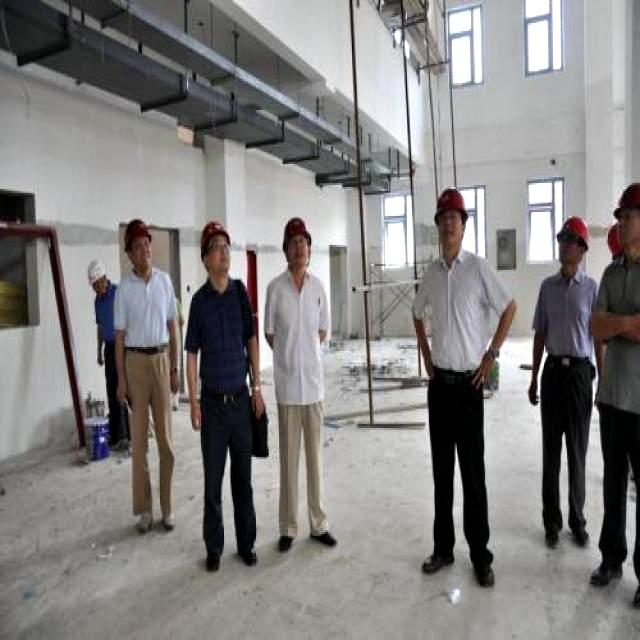hard_hat: (435, 187, 467, 222), (201, 220, 232, 256), (557, 216, 589, 249), (124, 218, 151, 251), (283, 216, 312, 243), (613, 183, 639, 212), (87, 260, 108, 283)
person: (413, 189, 515, 584), (187, 222, 264, 569), (264, 220, 335, 547), (591, 183, 639, 607), (535, 218, 596, 546), (114, 220, 178, 530), (88, 260, 127, 451)
